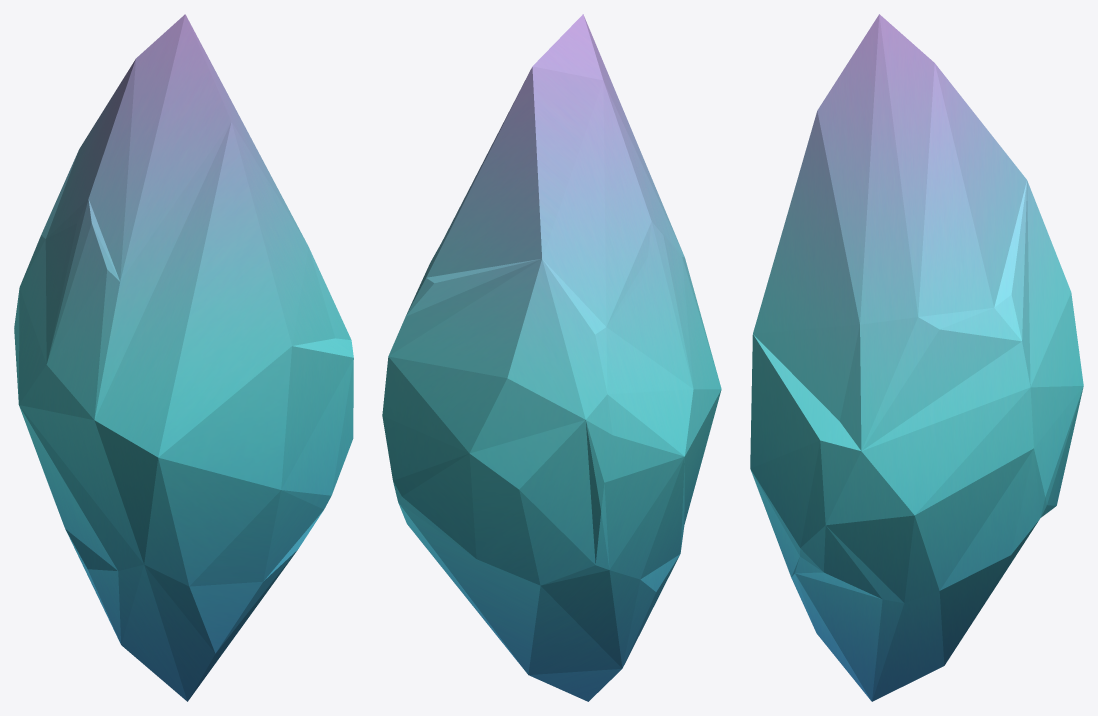
The model's file is Dragon Crystal.fbx.
The picture shows the model from 3 angles, left to right: view 1: azimuth 30°, elevation 25°; view 2: azimuth 150°, elevation 25°; view 3: azimuth 270°, elevation 25°; orthographic projection.
Parts seen in each view (by area): view 1: pCube1; view 2: pCube1; view 3: pCube1.
Boxes of the visible parts, <box> form: pCube1: <box>14,14,353,701</box>; pCube1: <box>382,14,721,701</box>; pCube1: <box>750,14,1083,701</box>.
Bounding box in the file's own units: 142 × 316 × 139.
